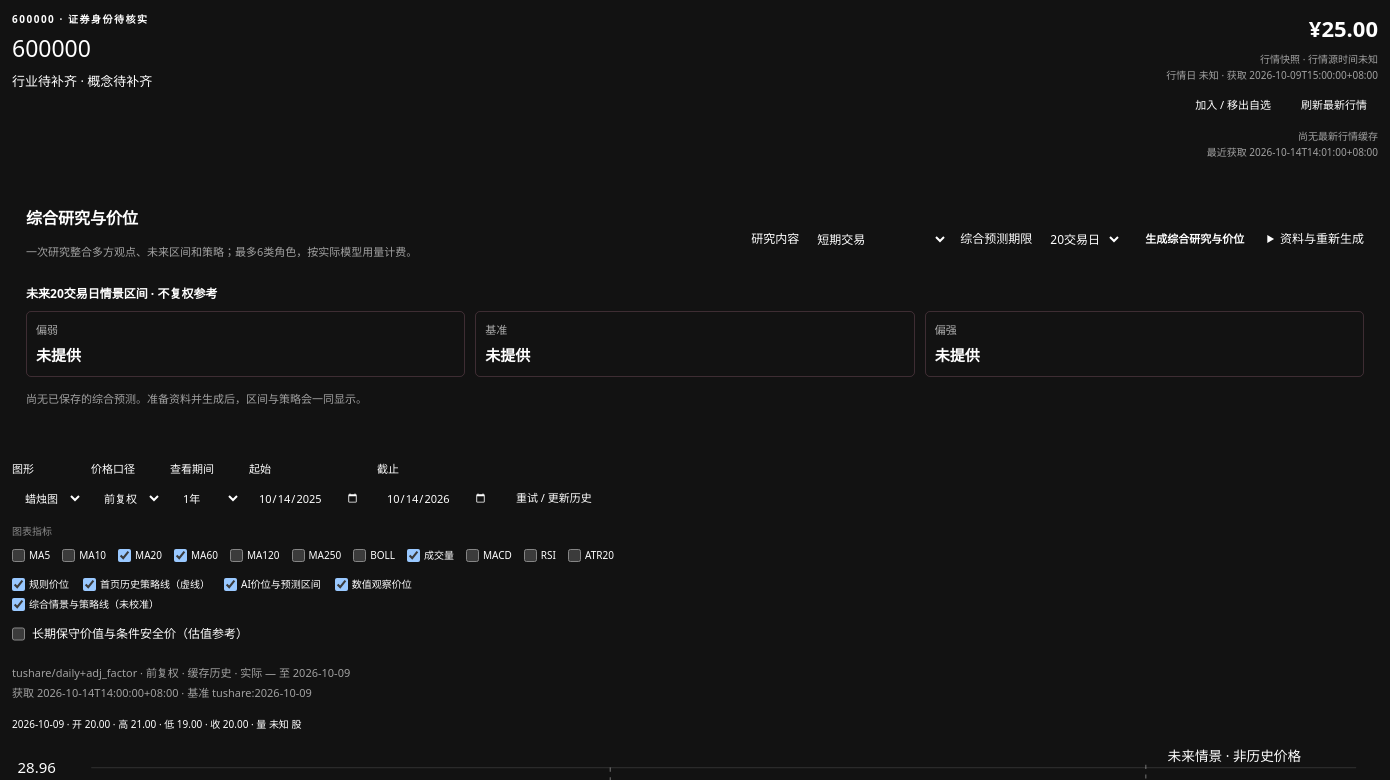
Test: does not draw a duplicate provisional bar after after-close refresh has promoted it to completed history
The width and height of the screenshot is (1390, 780).
Click the button "刷新最新行情" at (1334, 105), box [1290,89,1378,122]
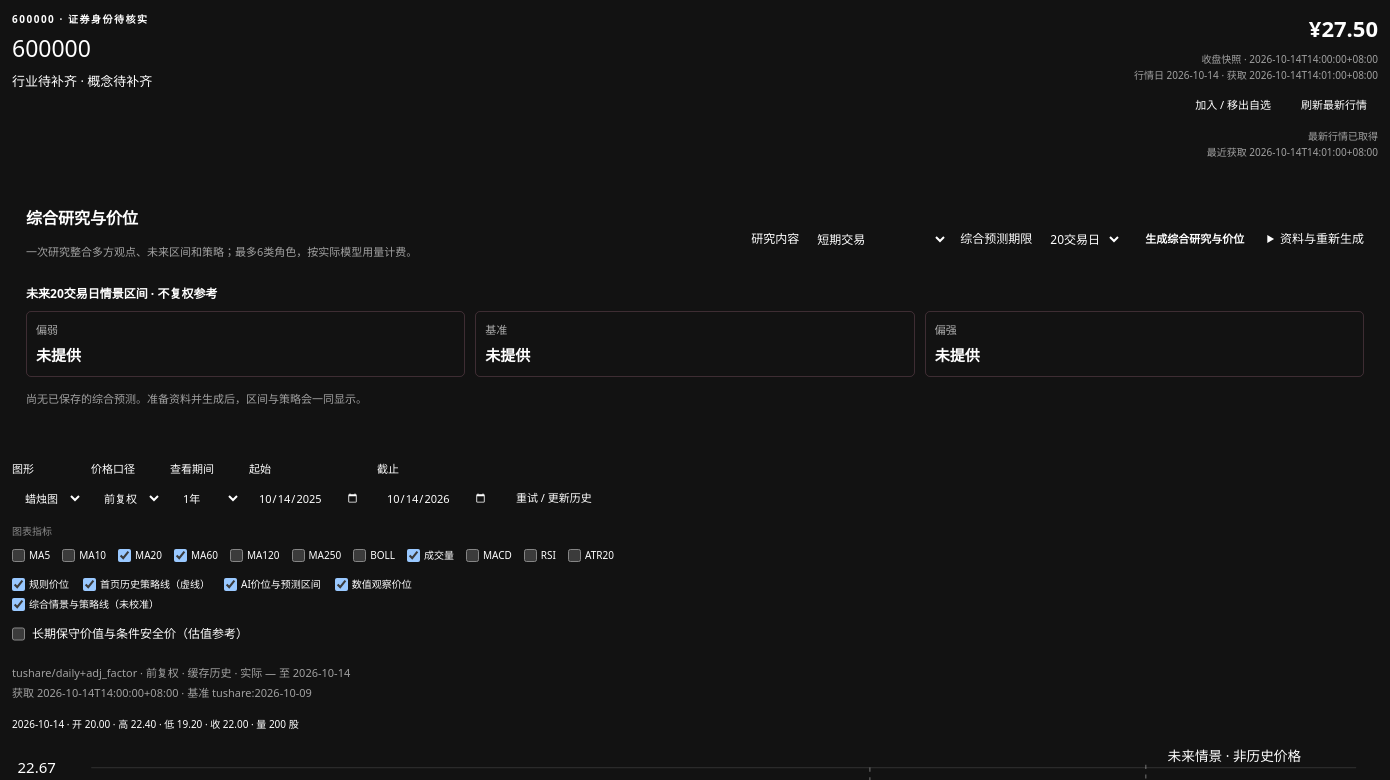
Now the text "收盘快照" is shown, box [1201,52,1241,66]
